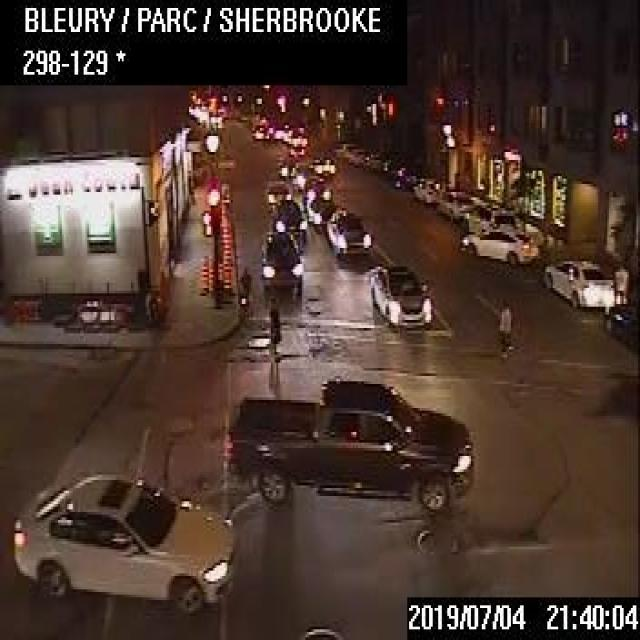construction: (220, 261, 230, 302), (198, 254, 208, 293), (222, 241, 230, 266), (221, 224, 230, 245), (207, 261, 213, 292), (216, 259, 222, 282)
cyclist: (238, 266, 251, 321)
pedestrian: (496, 296, 513, 355), (611, 253, 629, 307), (268, 296, 280, 355)
vehicle: (228, 378, 474, 512), (12, 474, 235, 614), (369, 263, 431, 328), (542, 256, 613, 307), (458, 225, 537, 264), (260, 228, 302, 294), (324, 206, 370, 256), (603, 303, 638, 350), (268, 198, 306, 241), (462, 202, 513, 231), (435, 190, 474, 220), (306, 195, 336, 231), (302, 175, 331, 205), (262, 178, 290, 209), (410, 176, 440, 200), (390, 165, 419, 187), (307, 154, 333, 178), (277, 154, 297, 177), (289, 125, 307, 147), (249, 120, 267, 139), (363, 151, 381, 169), (347, 146, 365, 164)
